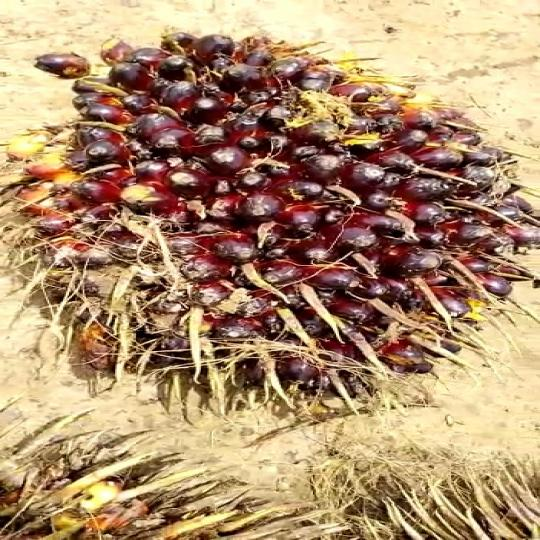mentah: (7, 19, 534, 421)
